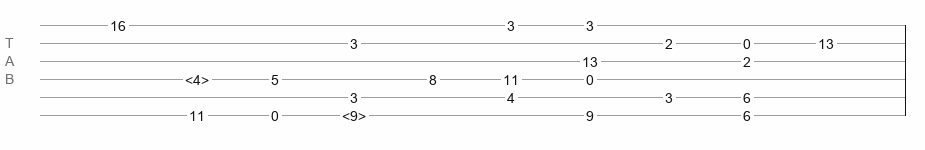0: (271, 108, 279, 118), (586, 72, 594, 82), (743, 36, 751, 46)
11: (189, 108, 205, 118), (503, 72, 519, 82)
13: (582, 54, 598, 64), (818, 36, 834, 46)
16: (110, 18, 126, 28)
2: (665, 36, 673, 46), (743, 54, 751, 64)
3: (350, 90, 358, 100), (350, 36, 358, 46), (507, 18, 515, 28), (586, 18, 594, 28), (665, 90, 673, 100)
4: (507, 90, 515, 100)
5: (271, 72, 279, 82)
6: (743, 90, 751, 100), (743, 108, 751, 118)
8: (429, 72, 437, 82)
9: (586, 108, 594, 118)
harmonic: (185, 72, 209, 82), (342, 108, 366, 118)
